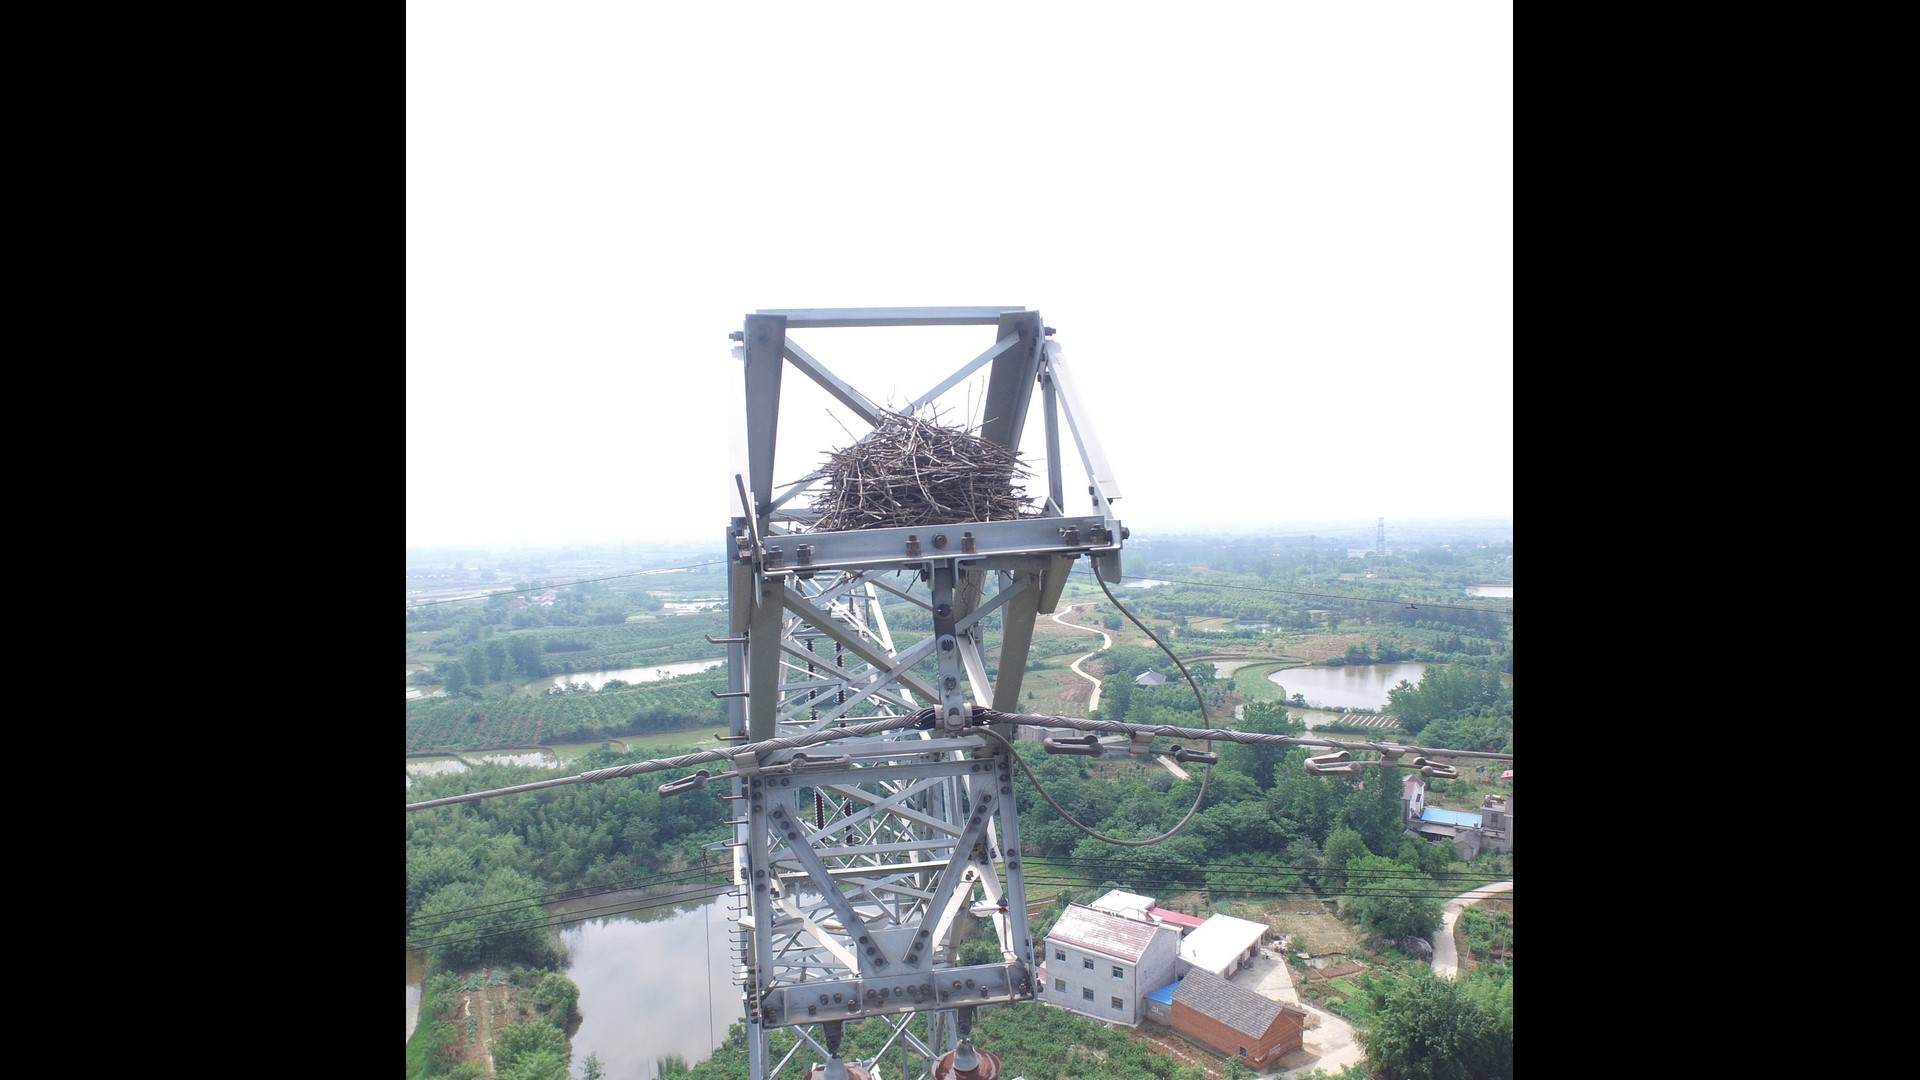niaowo: (796, 382, 1035, 553)
